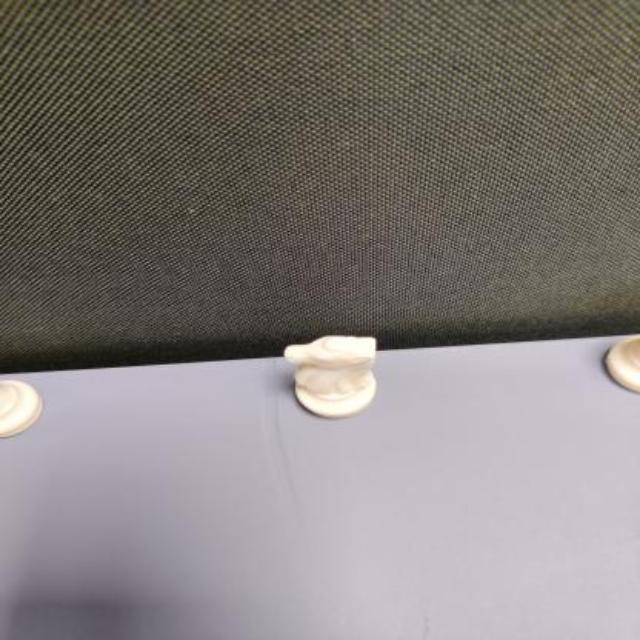white-knight: (281, 334, 381, 420)
